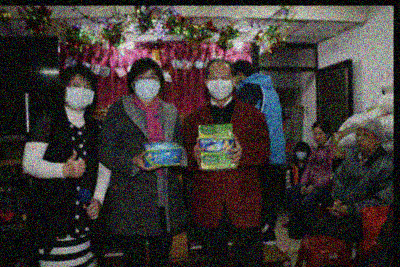with_mask: (65, 81, 95, 110), (133, 73, 160, 100), (208, 74, 231, 99), (297, 149, 308, 161)
without_mask: (356, 131, 378, 152), (313, 130, 327, 145)
